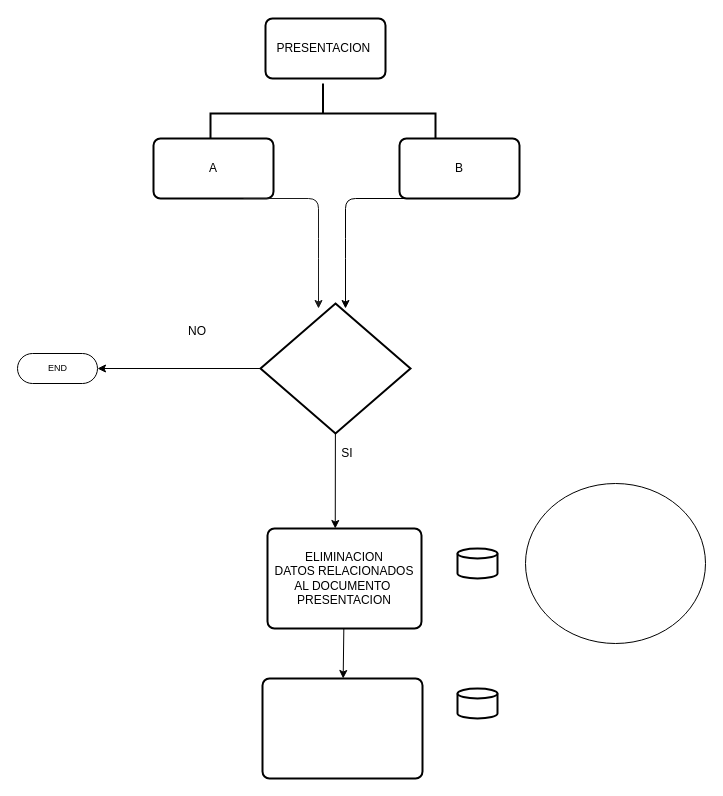
Image size: 723x796. Some labels were removed from this diagram. The shapes that lost their labels are listed below. From the top down, each one's centre as x and y in pixels, then its label:
At (x=335, y=368): "¿ES ACTUALIZABLE?".
At (x=615, y=563): "DELETE FROM TABLE RELATION DOCUMENTO = DOC PRESENTACION".
At (x=342, y=728): "INSERCION NUEVOS DATOS".
